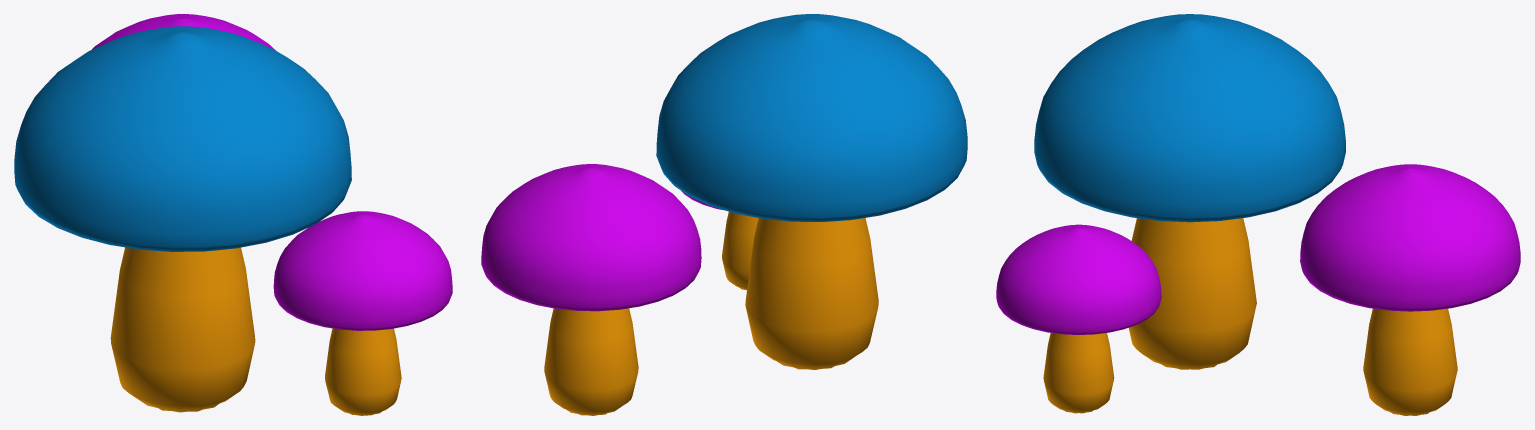
File: l_grzyb_ladny_4_wybuch.fbx
The picture shows the model from 3 angles, left to right: view 1: azimuth 30°, elevation 25°; view 2: azimuth 150°, elevation 25°; view 3: azimuth 270°, elevation 25°; orthographic projection. The views are drawn at different scales.
Parts seen in each view (by area): view 1: Sphere.001, Sphere.003, Sphere.002; view 2: Sphere.001, Sphere.002, Sphere.003; view 3: Sphere.001, Sphere.002, Sphere.003.
Boxes of the visible parts, bbox=[...] form: Sphere.001: bbox=[14, 26, 351, 412]; Sphere.003: bbox=[273, 211, 452, 415]; Sphere.002: bbox=[92, 14, 275, 50]; Sphere.001: bbox=[656, 14, 967, 369]; Sphere.002: bbox=[481, 164, 701, 415]; Sphere.003: bbox=[681, 191, 758, 290]; Sphere.001: bbox=[1034, 14, 1345, 369]; Sphere.002: bbox=[1300, 164, 1520, 415]; Sphere.003: bbox=[996, 224, 1161, 413].
Bounding box in the file's own units: 12.38 × 11.73 × 16.49.
